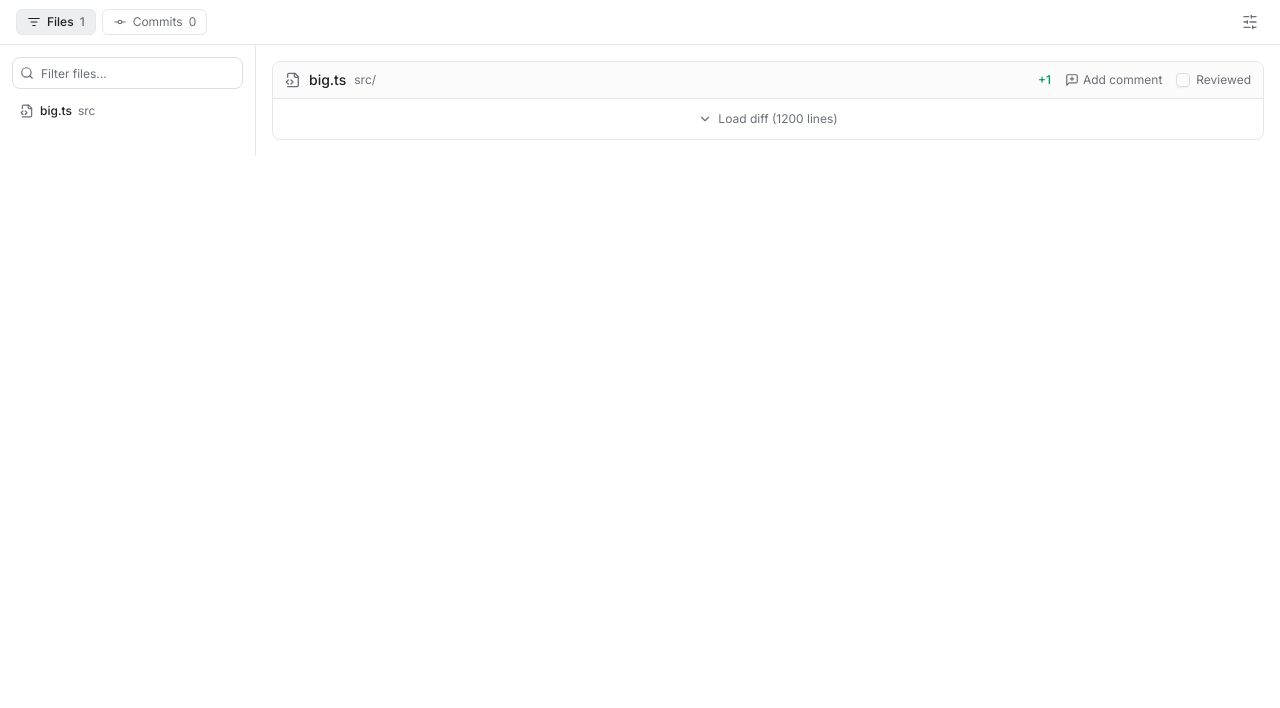
it: diff eficiente (#47) › arquivo grande começa colapsado e abre sob demanda
Expected: the text "line 5" is not shown
Click the button "Load diff (1200 lines)" at (768, 119), box [273,99,1263,139]
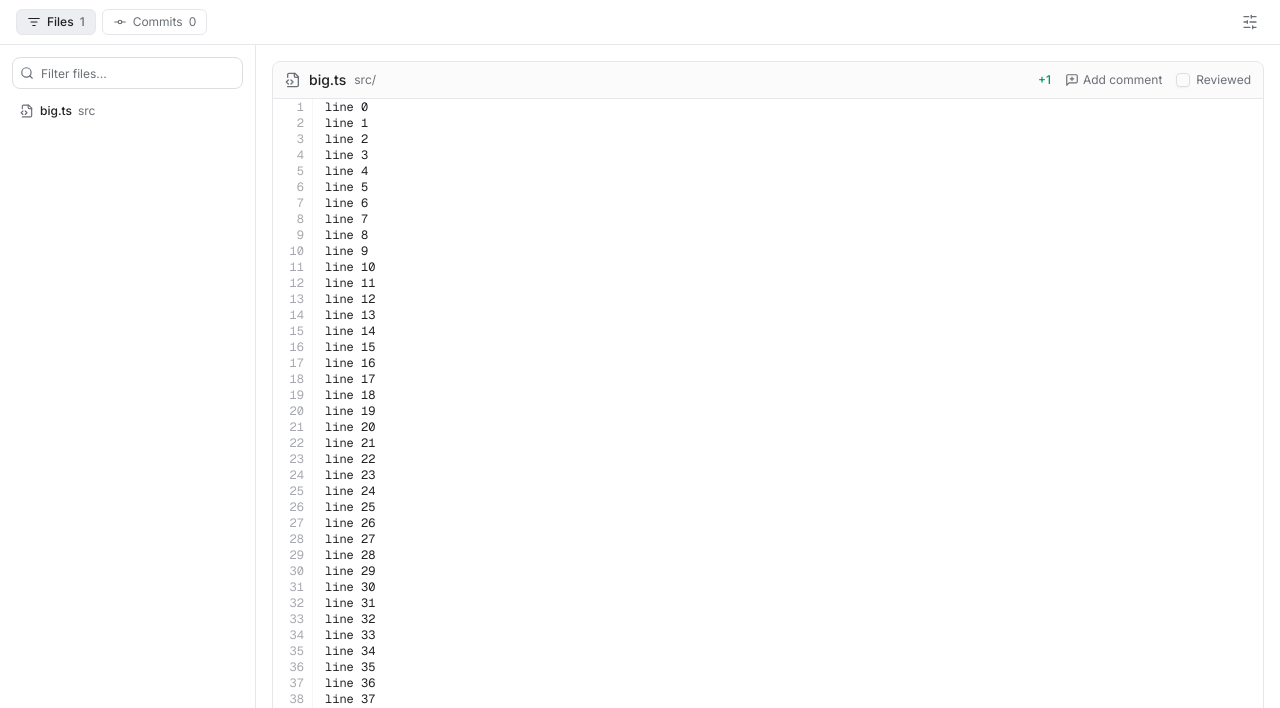
Expected: the text "line 5" is shown, [325,179,368,195]
